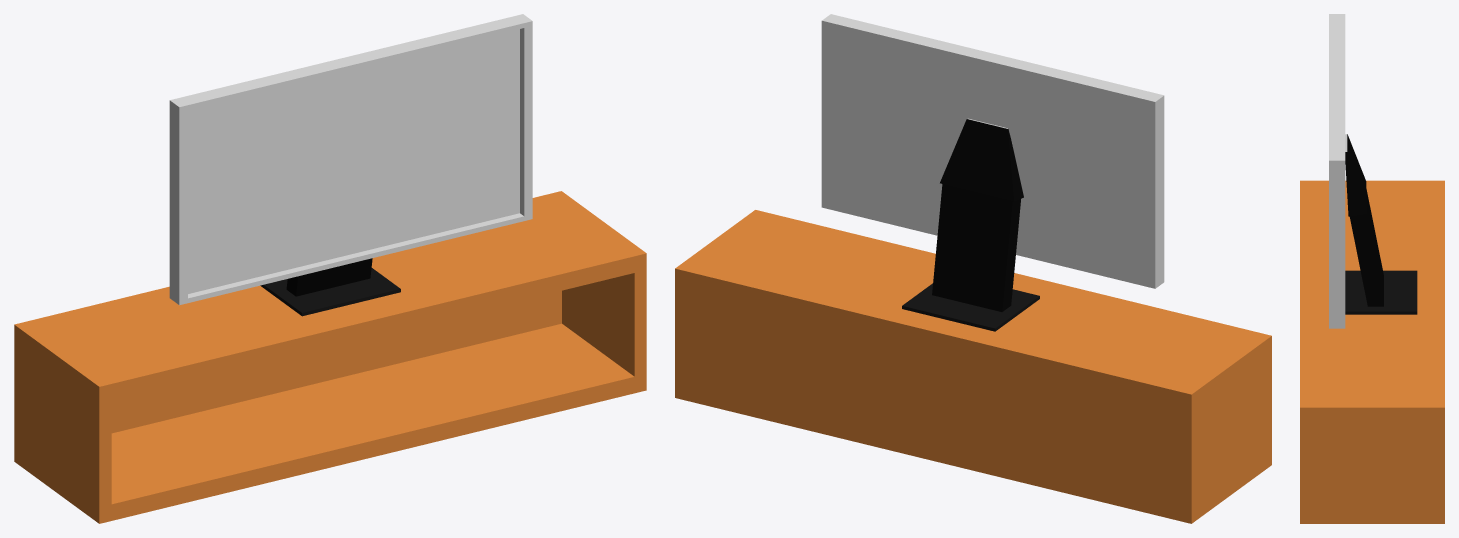
3 views of the same model, side by side, from view 1: azimuth 30°, elevation 25°; view 2: azimuth 150°, elevation 25°; view 3: azimuth 270°, elevation 25° (orthographic). The views are drawn at different scales.
Visible parts, largest first — view 1: Cube.001, Cube, Cube.002; view 2: Cube.001, Cube, Cube.002; view 3: Cube.001, Cube, Cube.002.
Part boxes in pixels (x1,y1,x2,y2): Cube.001: [14, 191, 646, 523]; Cube: [169, 14, 532, 305]; Cube.002: [260, 268, 400, 316]; Cube.001: [675, 118, 1271, 523]; Cube: [821, 14, 1164, 288]; Cube.002: [902, 283, 1039, 331]; Cube.001: [1300, 134, 1444, 523]; Cube: [1329, 14, 1345, 328]; Cube.002: [1345, 270, 1417, 314].
Size of the model in its own units: 579 by 384 by 156.
